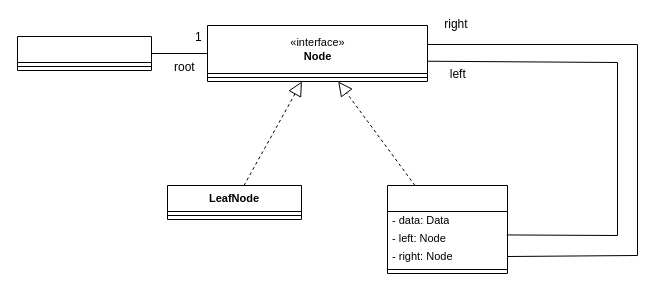
The diagram is 656 pixels wide and 291 high, and some of its shapes have lost their labels. Each missing label, with the box of its shape:
BinaryTree: (16, 36, 152, 70)
InnerNode: (386, 184, 508, 274)
